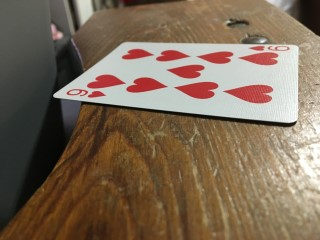NineOfHearts: (53, 41, 299, 123)
